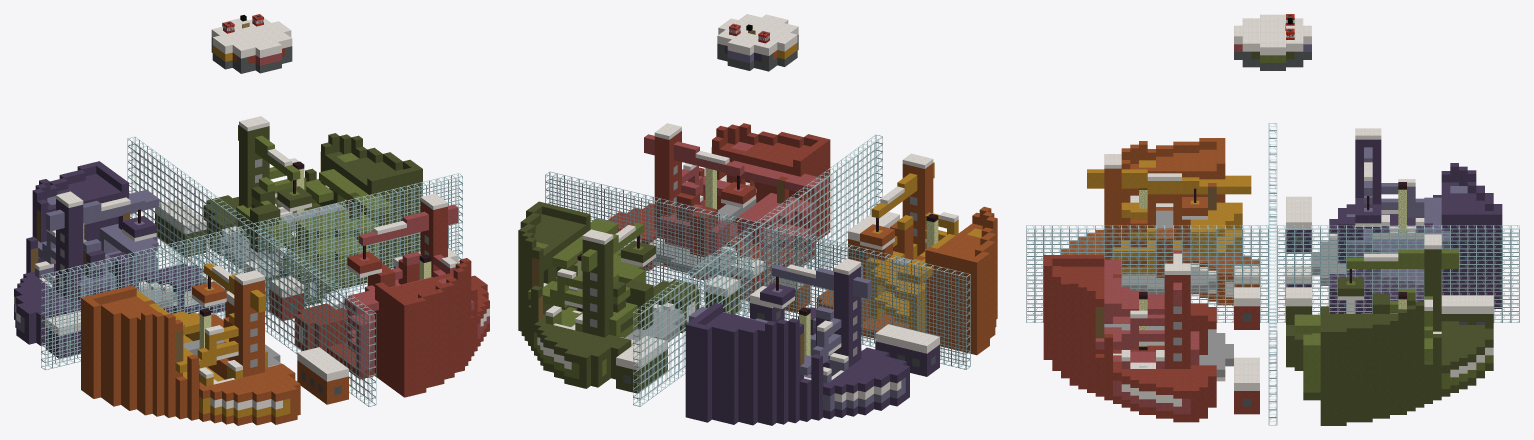
File: minecraft.obj
3 renders of one model, left to right at view 1: azimuth 30°, elevation 25°; view 2: azimuth 150°, elevation 25°; view 3: azimuth 270°, elevation 25°, orthographic. The views are drawn at different scales.
Size of the model in its own units: 57 by 39.52 by 57.
